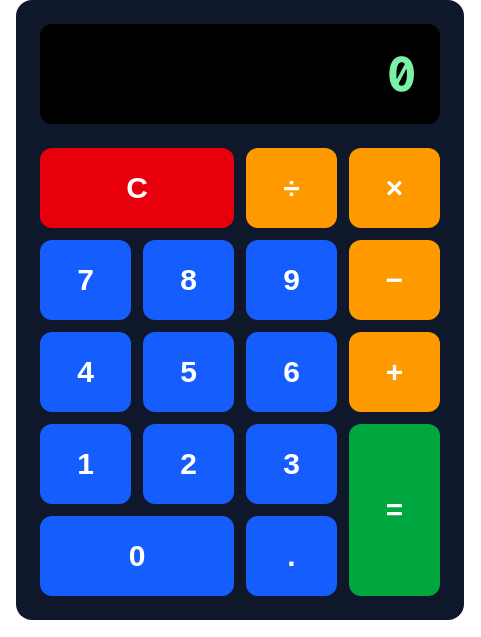
Test: Calculator Component › AC-1: Calculations via UI › performs subtraction and displays result
Click the button "9": (292, 280) top-left (246, 240), bottom-right (337, 320)
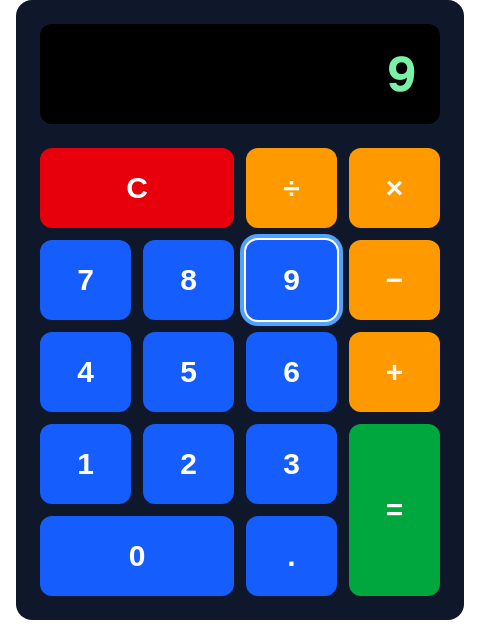
Click the button named "Subtract": (394, 280) top-left (349, 240), bottom-right (440, 320)
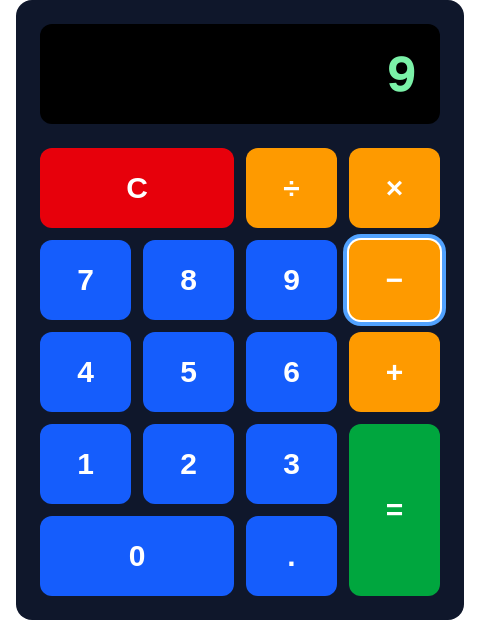
Click the button "4": (86, 372) top-left (40, 332), bottom-right (131, 412)
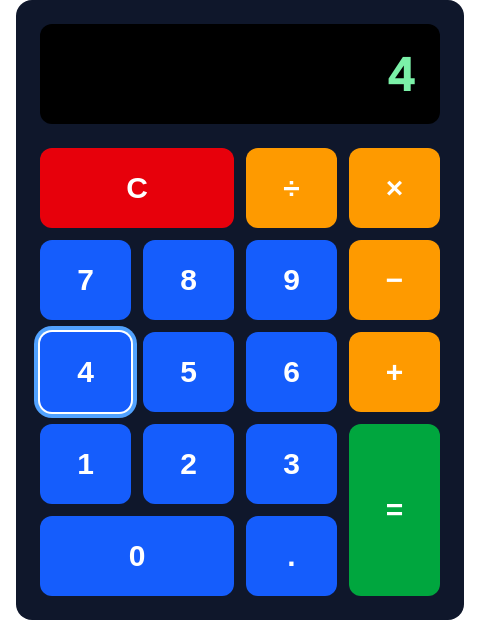
Click the button named "Equals": (394, 510) top-left (349, 424), bottom-right (440, 596)
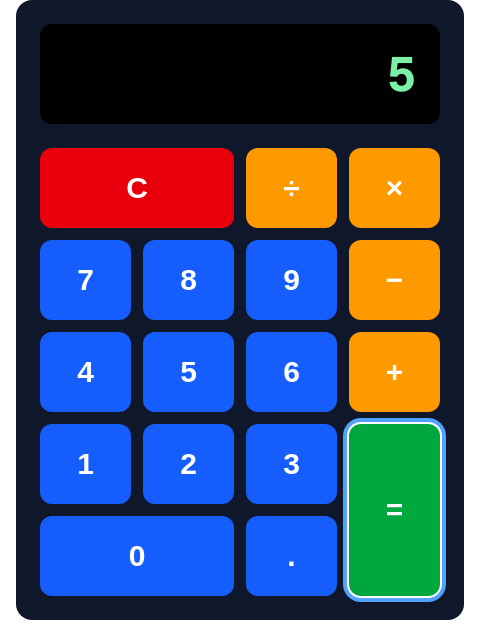
Check: the text with test id "calculator-display" reads "5", box top-left (387, 43), bottom-right (416, 105)
